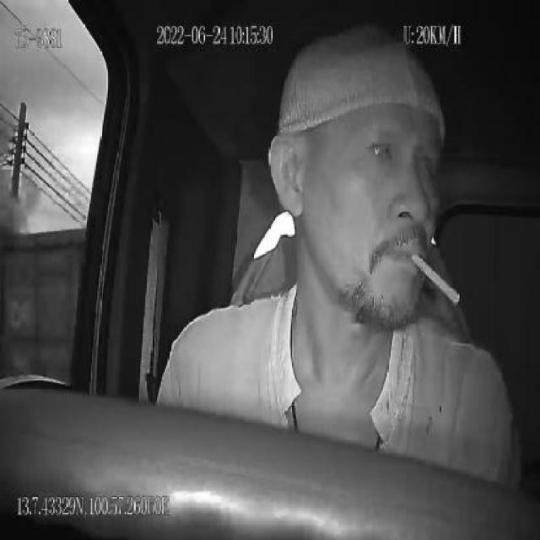smoking: (414, 252, 462, 305)
